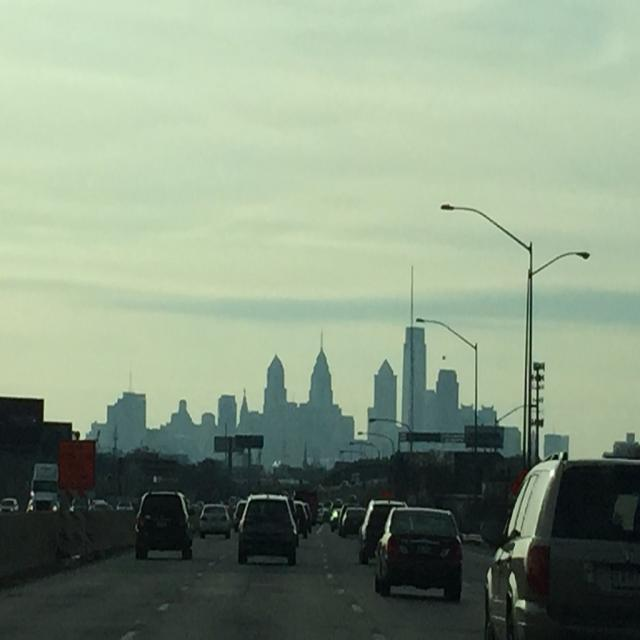car: (369, 504, 473, 609)
